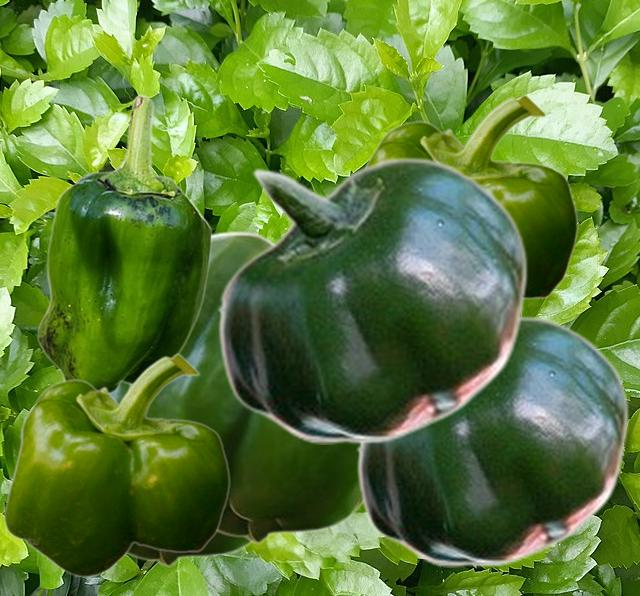bell_pepper: (216, 156, 527, 443), (125, 230, 361, 543), (355, 315, 628, 566), (36, 93, 211, 394), (3, 353, 229, 577), (363, 94, 577, 301), (61, 377, 251, 566)
